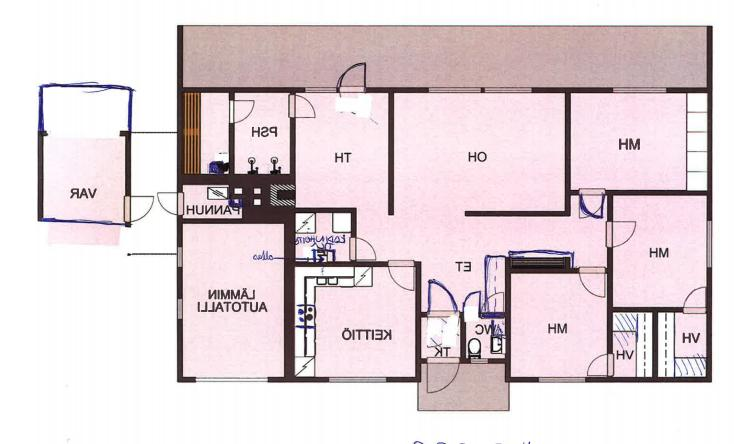door: (424, 357, 461, 394), (425, 278, 459, 318), (574, 189, 606, 222), (385, 258, 416, 292), (121, 194, 156, 224), (576, 268, 606, 301), (605, 219, 639, 248), (338, 62, 369, 92), (286, 92, 318, 120), (224, 96, 256, 124), (347, 236, 379, 262), (583, 353, 614, 379), (680, 285, 706, 315), (156, 191, 186, 216), (461, 288, 482, 317)
window: (324, 374, 392, 386), (606, 84, 674, 96), (191, 374, 271, 384), (481, 84, 537, 98), (423, 86, 486, 98), (534, 374, 588, 387), (704, 216, 716, 274), (300, 84, 340, 96), (173, 292, 185, 324), (174, 244, 186, 270), (466, 357, 492, 367)
